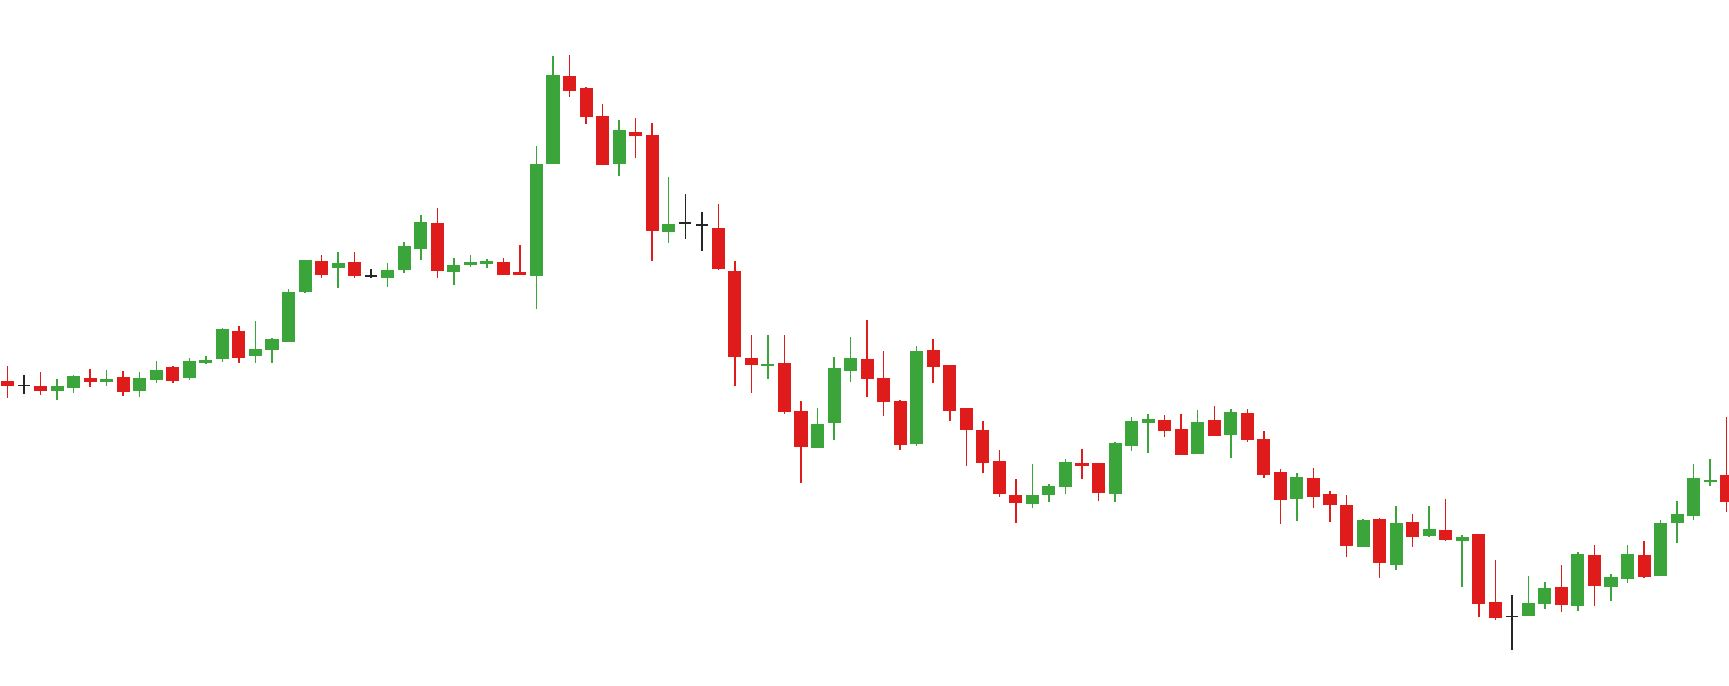sell: (760, 322, 876, 411)
